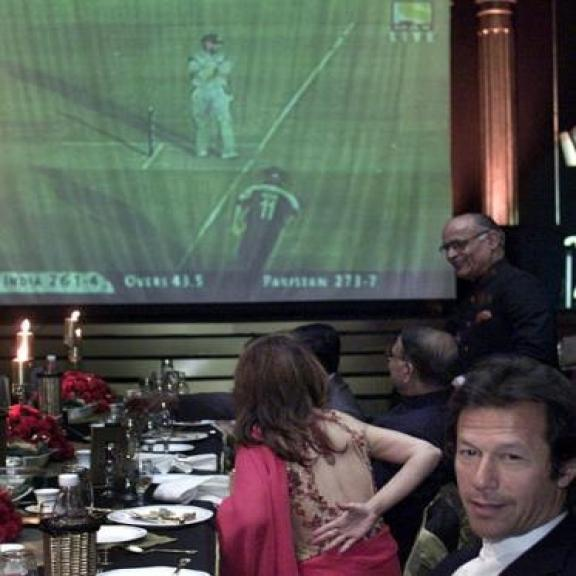face: (457, 407, 575, 541), (439, 225, 508, 279), (382, 327, 412, 392)
